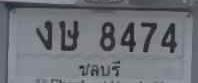4: (160, 22, 176, 52), (120, 21, 135, 51)
7: (140, 21, 156, 52)
8: (99, 21, 114, 50)
A07: (34, 19, 52, 49)
A39: (58, 19, 78, 50)
CBI: (76, 57, 123, 80)
